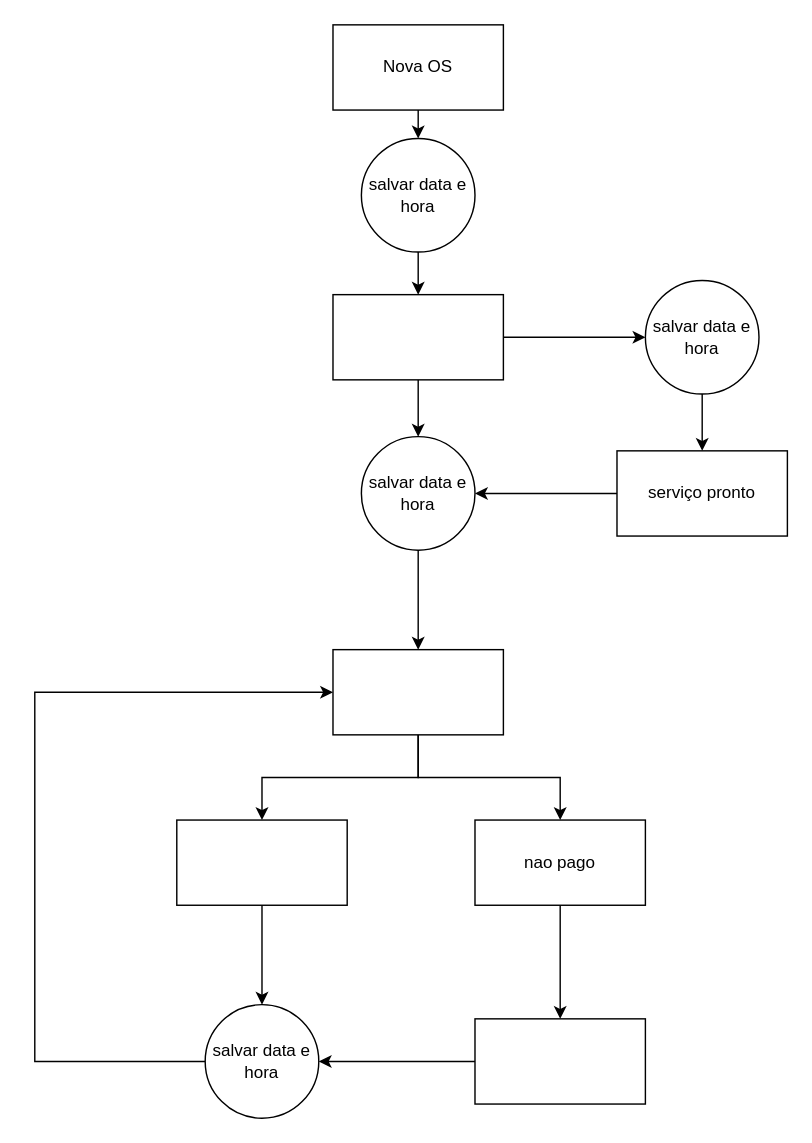
The diagram is 812 pixels wide and 1143 high, and some of its shapes have lost their labels. The centre of each missing label's shape, as x and y in pixels:
"Devendo" goes at (x=559, y=1060).
"entregue" goes at (x=417, y=691).
"pago" goes at (x=261, y=862).
"pendente" goes at (x=417, y=336).
